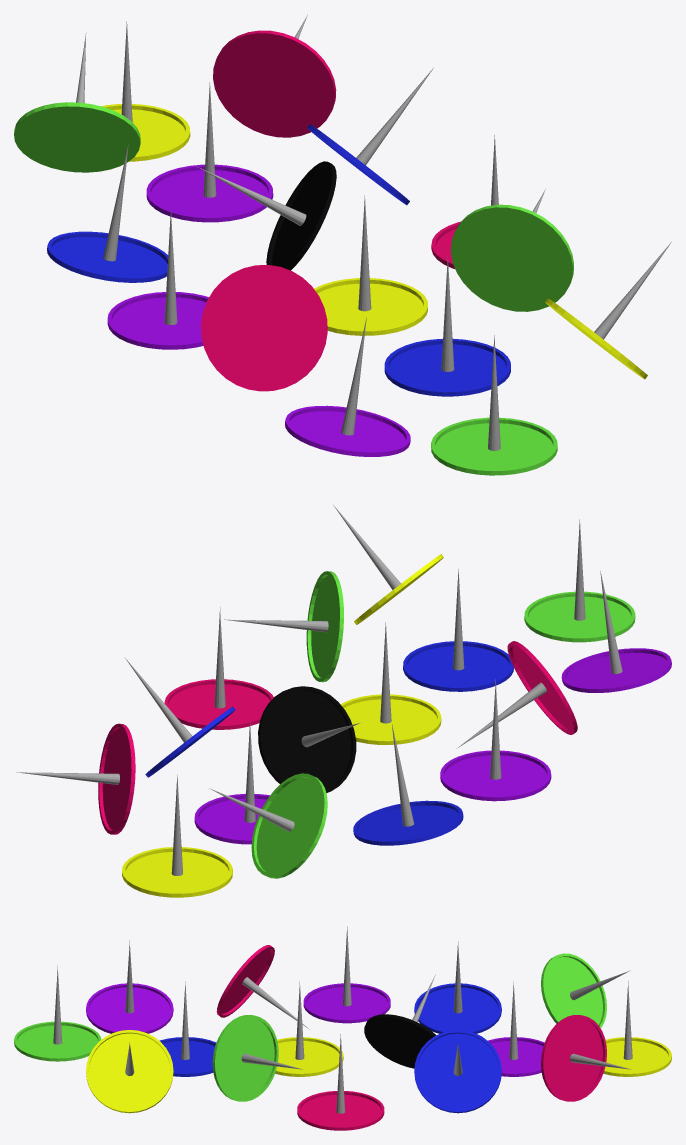
File: Raptiye.fbx
3 views of the same model, one above another, from view 1: azimuth 30°, elevation 25°; view 2: azimuth 150°, elevation 25°; view 3: azimuth 270°, elevation 25° (orthographic). The views are drawn at different scales.
Parts seen in each view (by area): view 1: Circle.013, Circle.004, Circle.009, Circle.011, Circle.014, Circle.006, Circle.001, Circle.007, Circle.012, Circle.010, Circle, Circle.015 (+4 smaller); view 2: Circle.015, Circle.011, Circle.002, Circle, Circle.006, Circle.014, Circle.005, Circle.007, Circle.012, Circle.010, Circle.004, Circle.009 (+4 smaller); view 3: Circle.003, Circle.008, Circle.009, Circle.004, Circle.012, Circle.011, Circle.010, Circle.005, Circle, Circle.014, Circle.015, Circle.002 (+4 smaller).
Part boxes in pixels (x1=…): Circle.013: x1=201, y1=265, x2=327, y2=391; Circle.004: x1=213, y1=14, x2=336, y2=137; Circle.009: x1=451, y1=189, x2=573, y2=311; Circle.011: x1=14, y1=32, x2=140, y2=172; Circle.014: x1=431, y1=335, x2=557, y2=475; Circle.006: x1=384, y1=256, x2=510, y2=396; Circle.001: x1=146, y1=82, x2=273, y2=222; Circle.007: x1=314, y1=195, x2=427, y2=335; Circle.012: x1=285, y1=317, x2=410, y2=456; Circle.010: x1=47, y1=144, x2=168, y2=282; Circle: x1=107, y1=209, x2=208, y2=349; Circle.015: x1=196, y1=161, x2=336, y2=270; Circle.015: x1=258, y1=686, x2=359, y2=792; Circle.011: x1=209, y1=773, x2=327, y2=878; Circle.002: x1=122, y1=775, x2=232, y2=897; Circle: x1=440, y1=679, x2=551, y2=801; Circle.006: x1=403, y1=569, x2=513, y2=691; Circle.014: x1=524, y1=519, x2=635, y2=642; Circle.005: x1=164, y1=607, x2=273, y2=729; Circle.007: x1=340, y1=622, x2=441, y2=744; Circle.012: x1=561, y1=571, x2=671, y2=692; Circle.010: x1=353, y1=724, x2=463, y2=845; Circle.004: x1=16, y1=723, x2=135, y2=834; Circle.009: x1=224, y1=571, x2=343, y2=682; Circle.003: x1=414, y1=1030, x2=501, y2=1113; Circle.008: x1=86, y1=1030, x2=173, y2=1113; Circle.009: x1=212, y1=1015, x2=302, y2=1101; Circle.004: x1=541, y1=1015, x2=631, y2=1101; Circle.012: x1=86, y1=940, x2=173, y2=1033; Circle.011: x1=541, y1=953, x2=630, y2=1028; Circle.010: x1=414, y1=941, x2=501, y2=1033; Circle.005: x1=297, y1=1034, x2=384, y2=1130; Circle: x1=303, y1=926, x2=390, y2=1023; Circle.014: x1=14, y1=965, x2=101, y2=1061; Circle.015: x1=364, y1=975, x2=436, y2=1068; Circle.002: x1=603, y1=981, x2=671, y2=1076.
Bounding box in the file's own units: 190 × 56.73 × 366.
